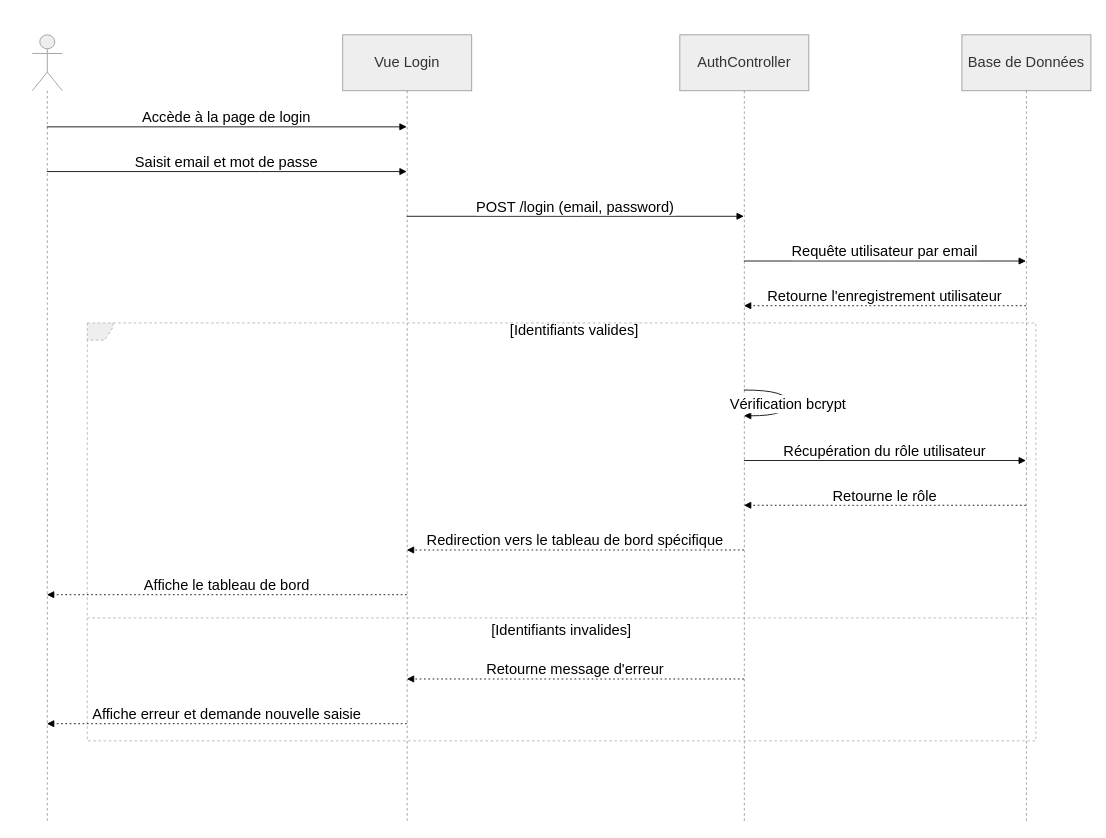
This 1106x838 diagram has some shape labels left out. The shapes that lost their labels are listed below. From the top down, each one's box as (x1, y1, x2, y2) in pixels, then its label:
(31, 34, 62, 823): Utilisateur
(86, 322, 1036, 741): alt
